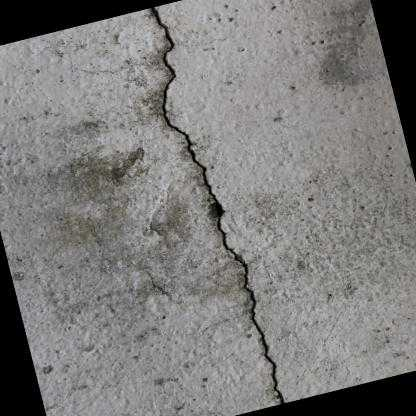crack: (150, 7, 285, 404)
